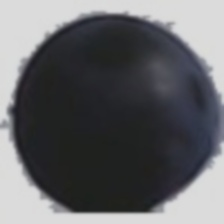grapes: (39, 8, 222, 179)
